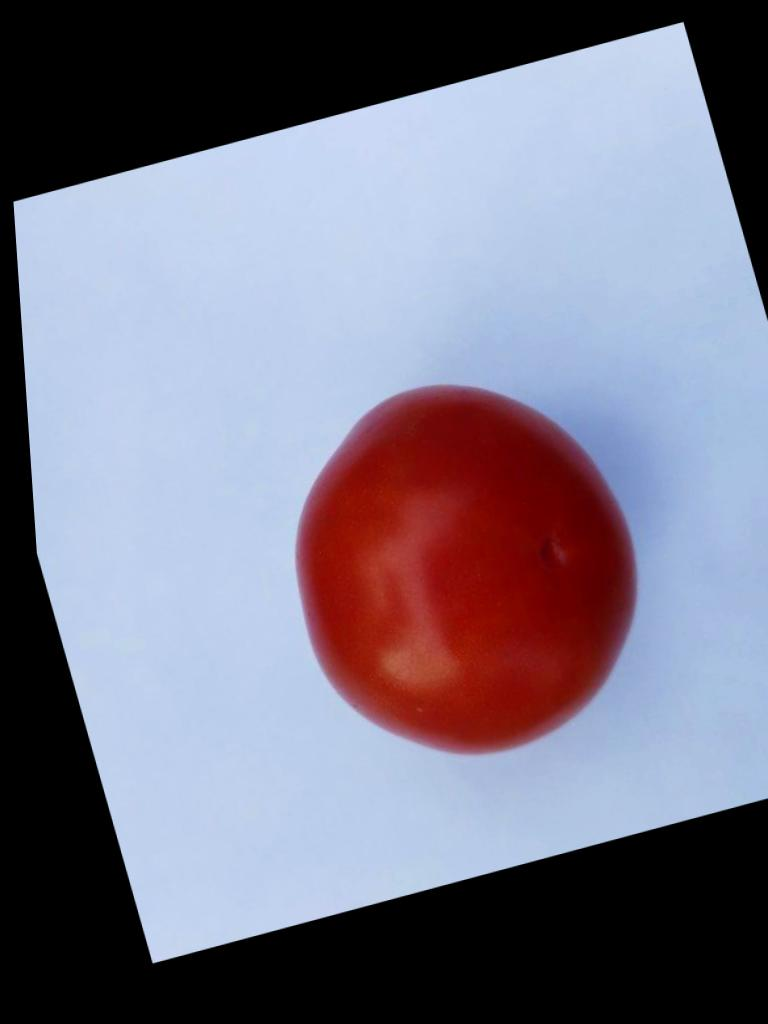tomato: (295, 387, 634, 753)
